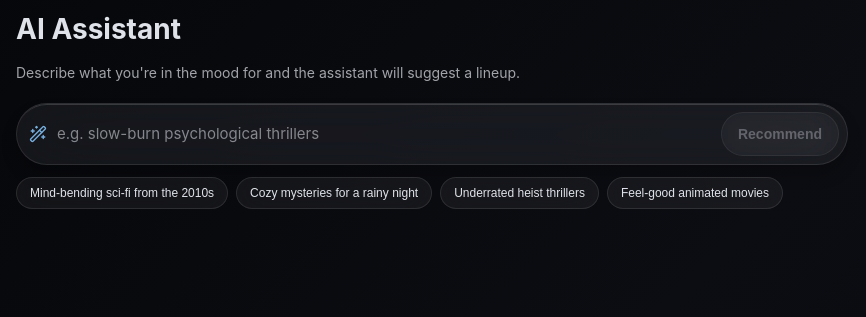
Test: Assistant - server mode routing › routes to recommendServerAI (not the local provider) in Server Mode
Type "time" into the field named "Describe what to watch" at (384, 134), box [55,117,713,151]
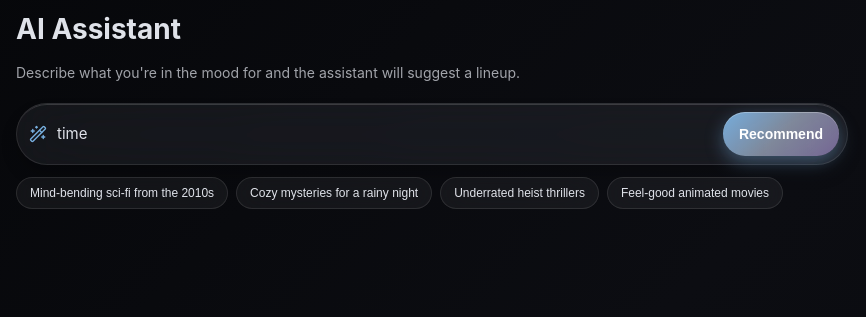
Click the button "Recommend" at (781, 134), box [723,112,839,156]
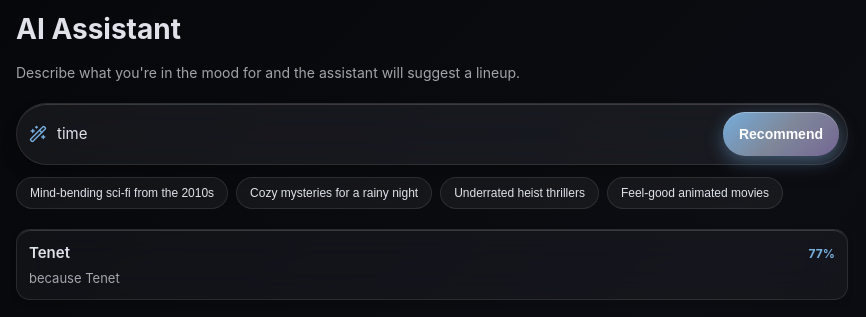
Result: the text "Tenet" is shown at [29,242,70,264]
